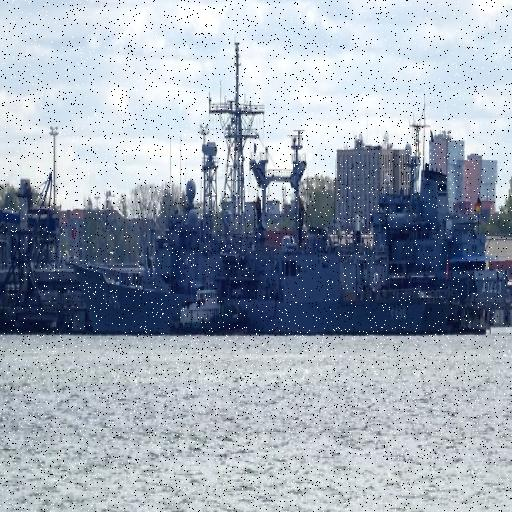Fragata: (65, 50, 431, 339)
